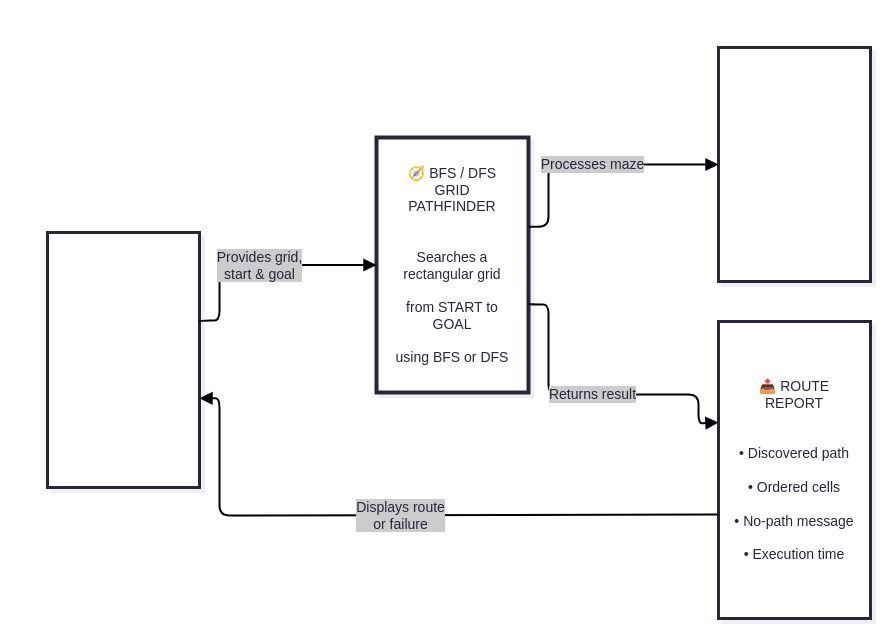
Some shapes in this 893 by 641 pixel diagram are drawn without their labels. The shapes that lost their labels are listed below. From the top down, each one's centre as x and y in pixels, then its label:
At (796,166): "📥 GRID INPUT • Grid / Maze • Start cell • Goal cell • Blocked cells".
At (125,361): "👤 USER Student / Developer Provides maze/grid Selects BFS or DFS".
